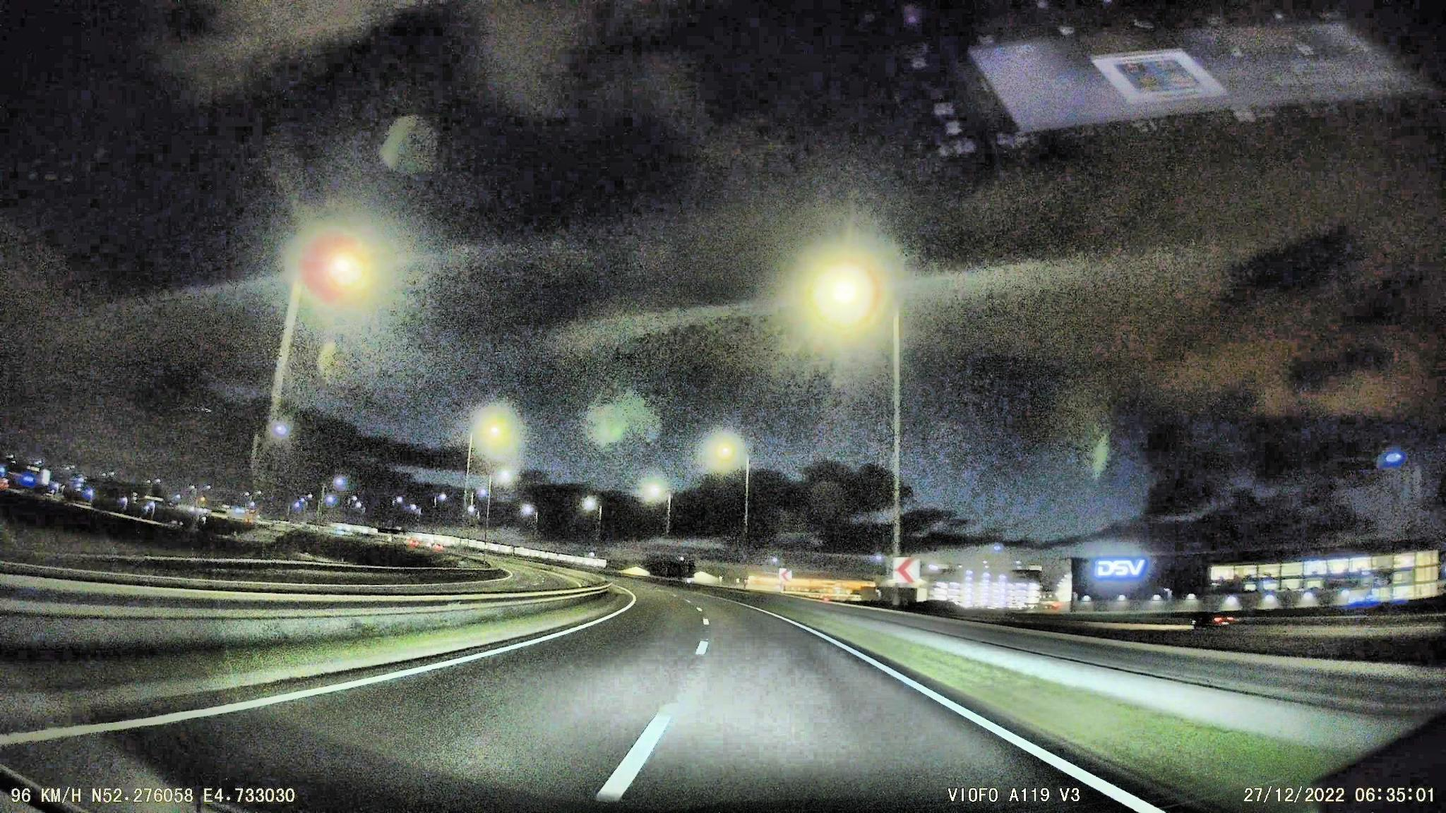Roads: (0, 582, 1192, 813)
